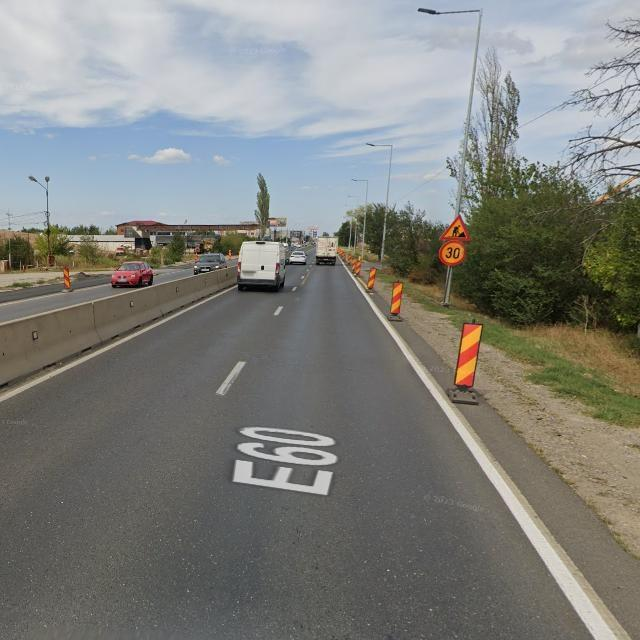forb_speed_over_30: (439, 241, 466, 266)
